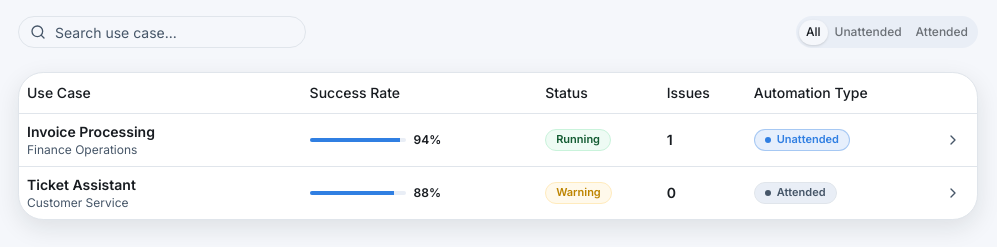
it: UseCasesList › filters the copied table with automation type tabs
This screenshot has width=997, height=247.
Click the tab "Attended". click: (942, 32)
box: [909, 20, 975, 44]
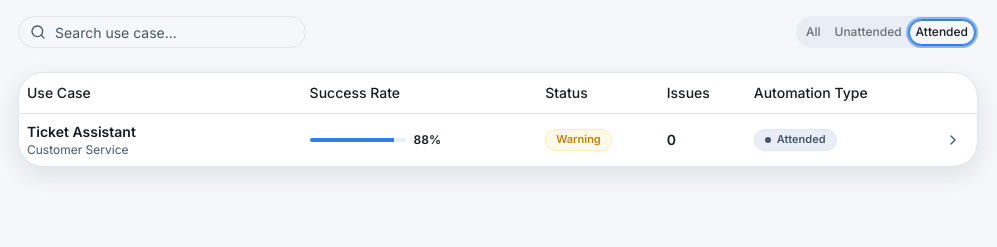
Expected: the text "Ticket Assistant" is shown, [27, 122, 136, 140]
Expected: the link "Invoice Processing" is gone
